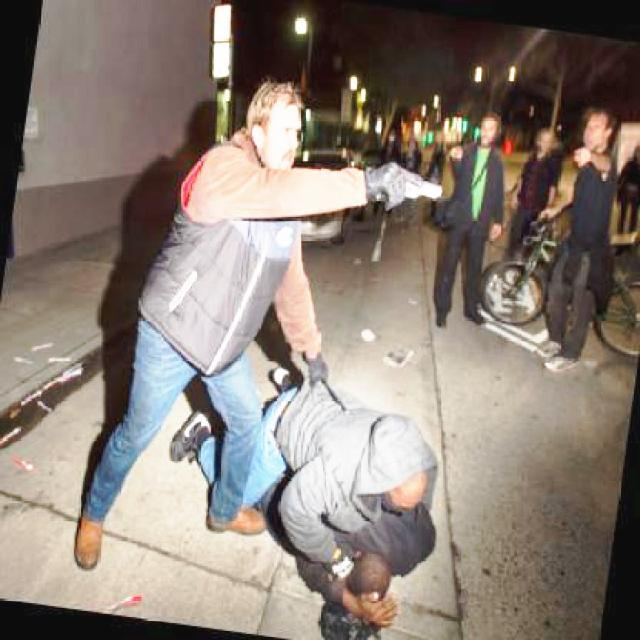Gun: (375, 152, 446, 226)
